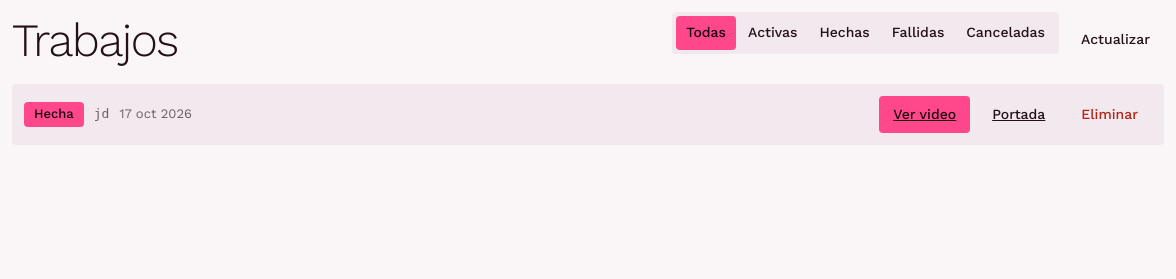
JobsPage delete › shows an error when the delete fails
Expected: the text "Hecha" is shown, [24,102,84,127]
Click the button "Eliminar": [1110, 115] box [1067,96,1152,133]
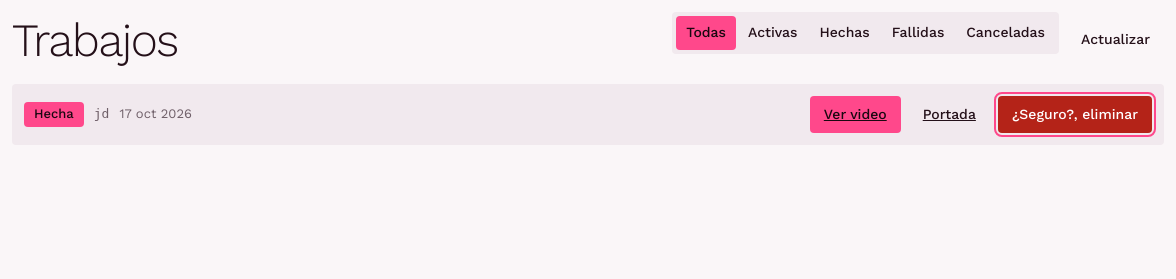
Click the button "¿Seguro?, eliminar": [1075, 115] box [998,96,1152,133]
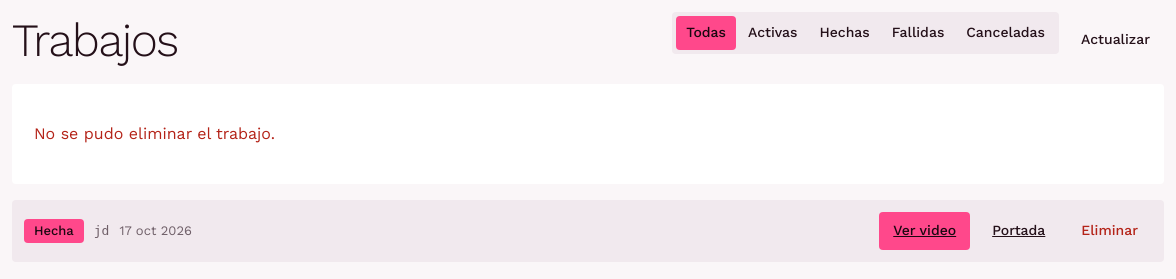
Expected: the text "No se pudo eliminar el trabajo." is shown, [34,122,275,146]
